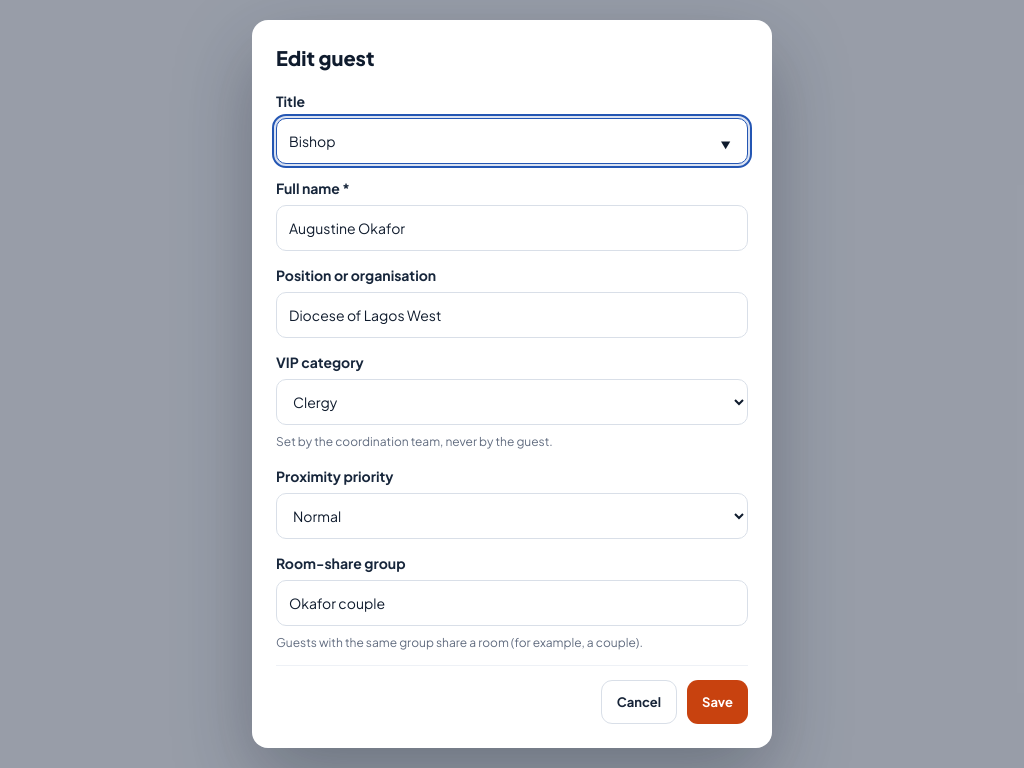
Test: EditGuestDialog › needs a name for the principal
This screenshot has width=1024, height=768.
Clear the field labelled "Full name *" at (512, 228), box [276, 205, 748, 251]
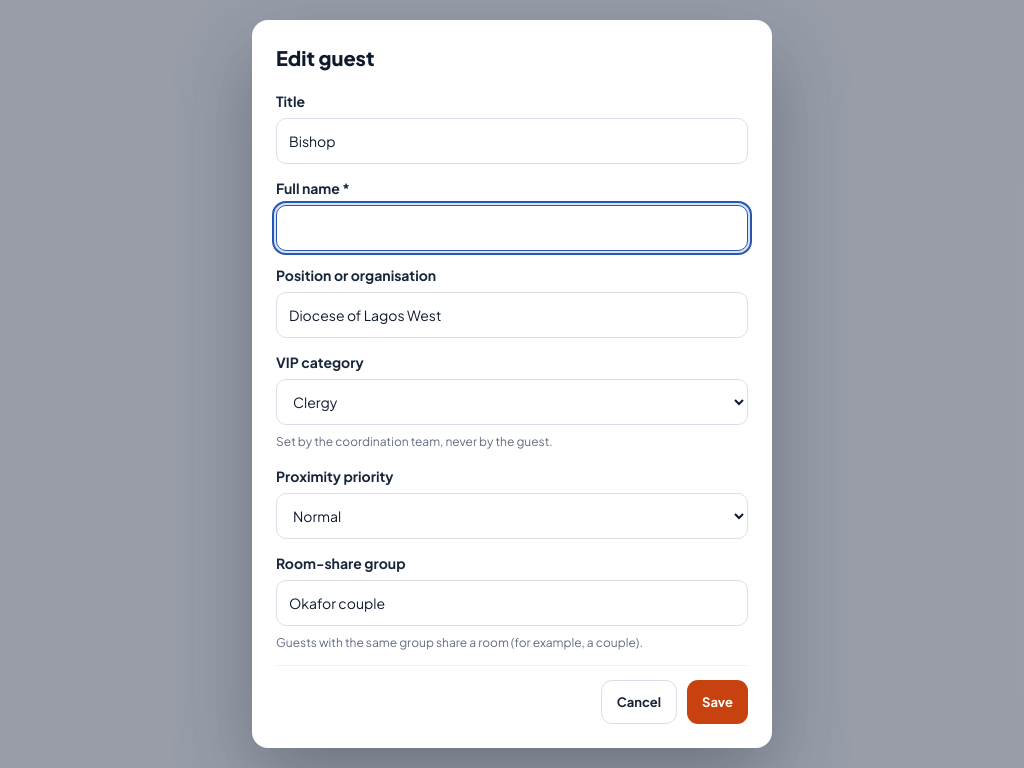
Click the button "Save" at (718, 702), box [687, 680, 748, 724]
(page scrolled)
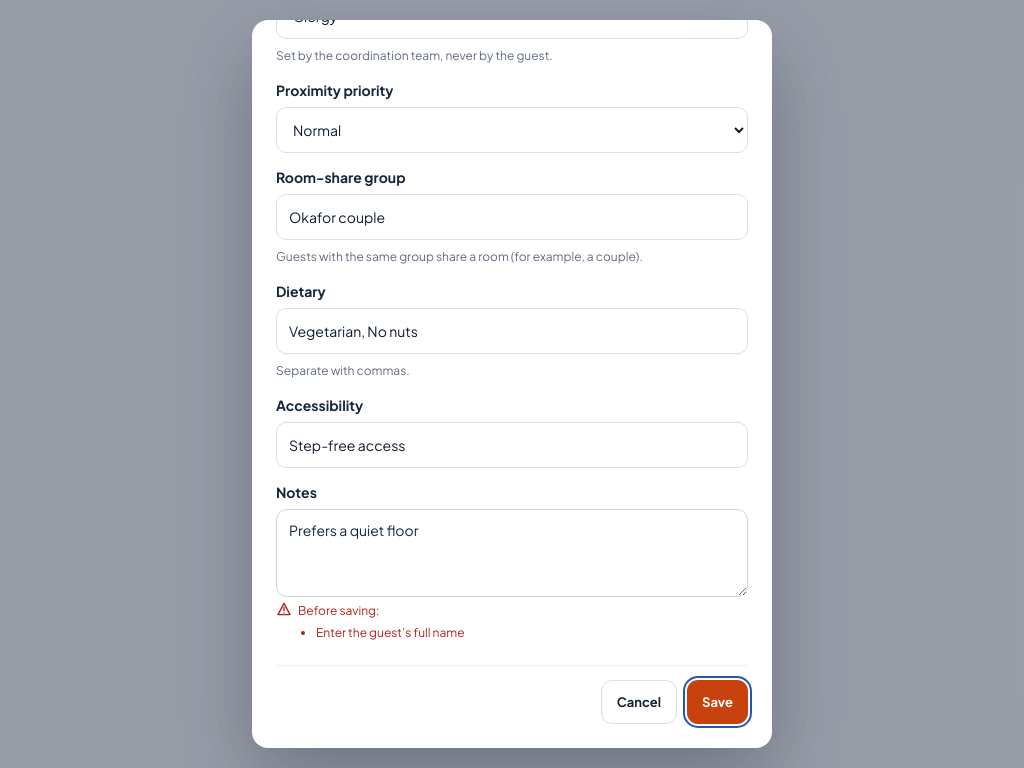
expect the message shows "Enter the guest’s full name": met, box [316, 625, 465, 640]
